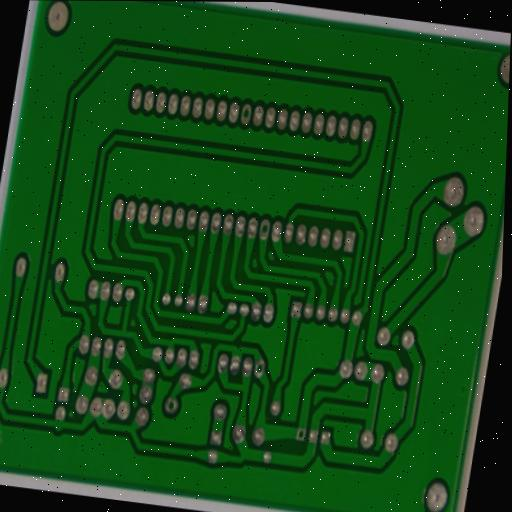missing_hole: (236, 99, 257, 129), (257, 215, 275, 243), (161, 394, 181, 419), (251, 357, 270, 383), (294, 426, 309, 446)
